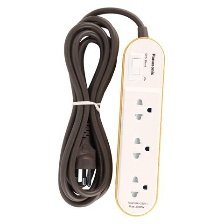three_eye_plug: (113, 35, 167, 217)
